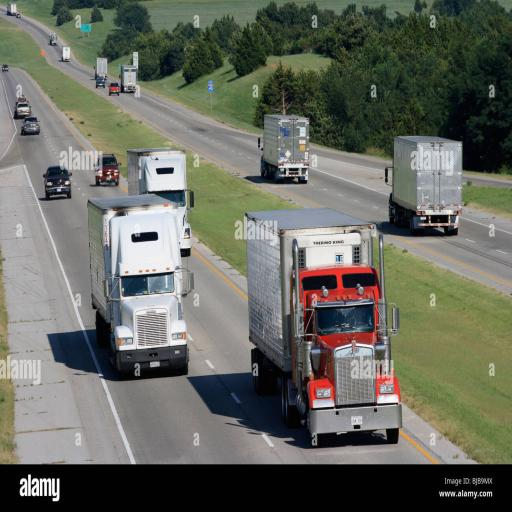car: (43, 165, 72, 199), (94, 153, 120, 186), (21, 116, 40, 135), (13, 101, 31, 119), (108, 82, 120, 96)
truck: (244, 206, 402, 447), (86, 193, 194, 377), (384, 134, 463, 236), (126, 147, 194, 257), (257, 114, 310, 183), (119, 64, 137, 93)
